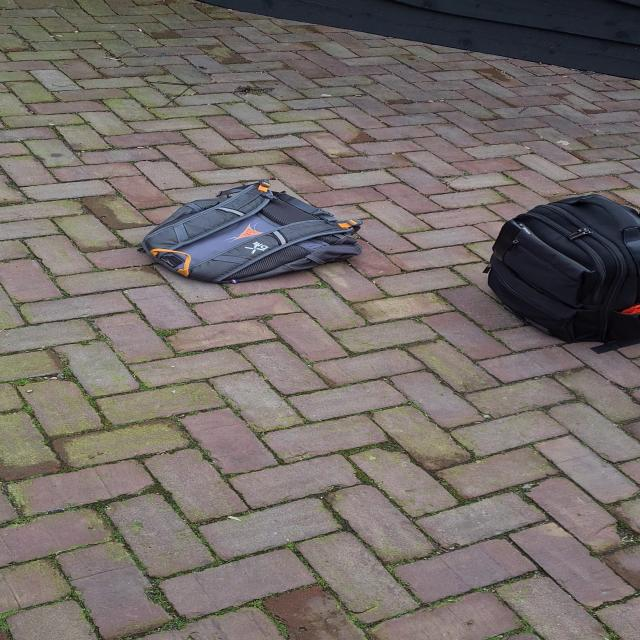backpack: (480, 192, 640, 349), (136, 183, 366, 290)
